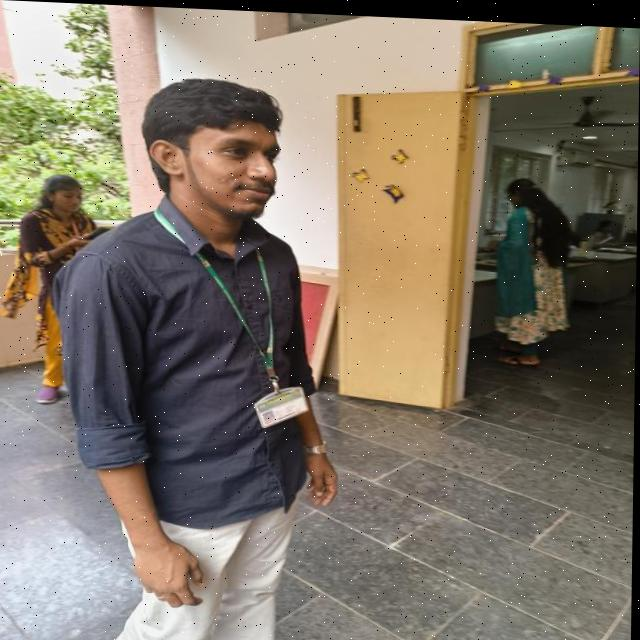id_card: (149, 199, 320, 431)
